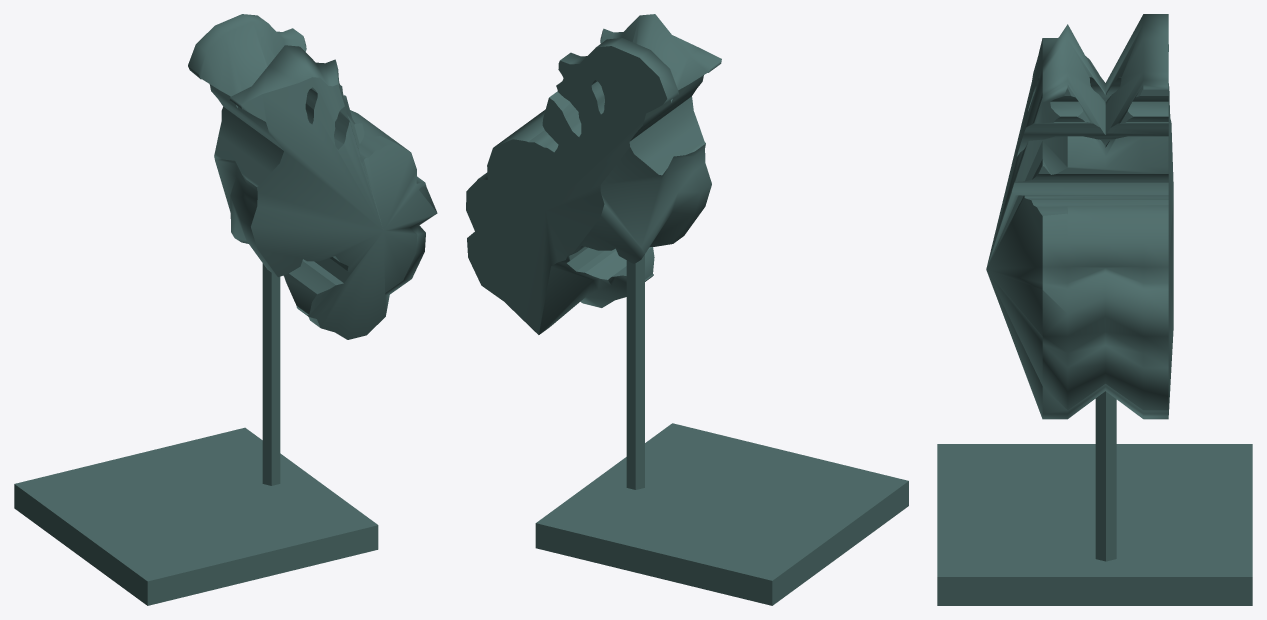
Rendered from SombraECS.fbx.
The picture shows the model from 3 angles, left to right: view 1: azimuth 30°, elevation 25°; view 2: azimuth 150°, elevation 25°; view 3: azimuth 270°, elevation 25°; orthographic projection. The views are drawn at different scales.
Parts seen in each view (by area): view 1: SombraD, SuporteD, pCylinder13; view 2: SombraD, SuporteD, pCylinder13; view 3: SombraD, SuporteD, pCylinder13.
Part boxes in pixels (x1,y1,x2,y2): SombraD: (188,14,437,339); SuporteD: (14,427,378,605); pCylinder13: (262,263,280,485); SombraD: (466,14,721,334); SuporteD: (535,423,908,605); pCylinder13: (626,254,644,489); SombraD: (986,14,1173,419); SuporteD: (937,444,1252,605); pCylinder13: (1095,391,1116,561).
Bounding box in the file's own units: 1.45 × 1.96 × 1.
